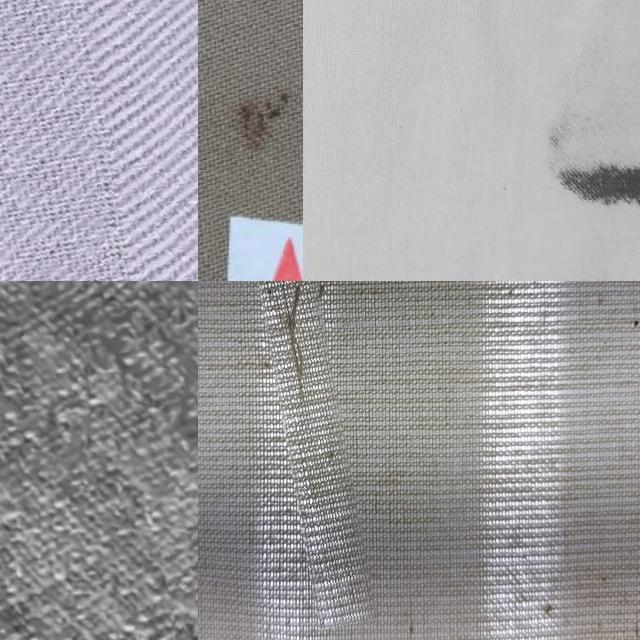Thread_other: (533, 101, 640, 257), (198, 56, 302, 196)
stains: (266, 281, 359, 629)
